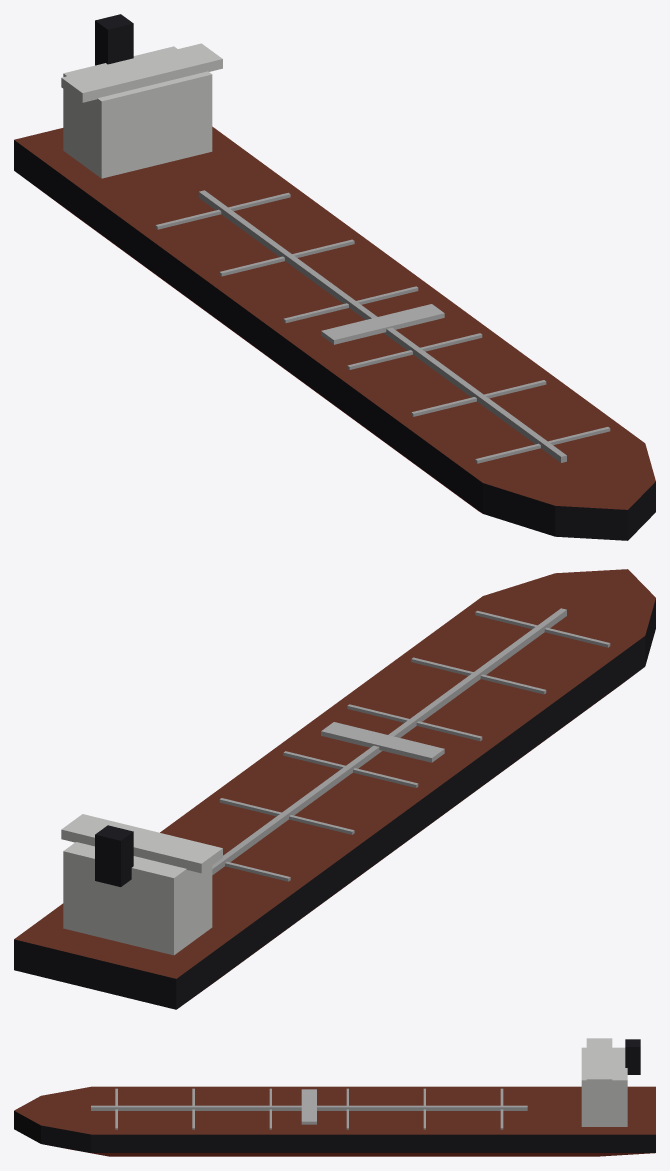
File: ship_tanker.glb
3 renders of one model, top to bottom at view 1: azimuth 30°, elevation 25°; view 2: azimuth 150°, elevation 25°; view 3: azimuth 270°, elevation 25°, orthographic. The views are drawn at different scales.
Parts seen in each view (by area): view 1: ship_tanker; view 2: ship_tanker; view 3: ship_tanker.
Boxes of the visible parts, x1=… form: ship_tanker: x1=14, y1=14, x2=655, y2=540; ship_tanker: x1=14, y1=569, x2=655, y2=1009; ship_tanker: x1=14, y1=1038, x2=655, y2=1156.
Bounding box in the file's own units: 44 × 40 × 250.
